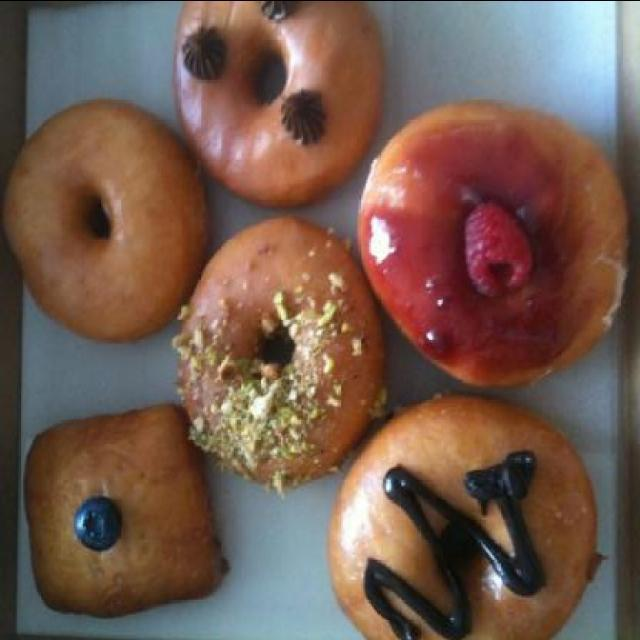Donuts: (19, 1, 638, 632)
